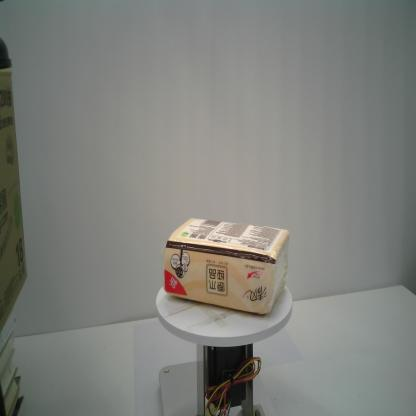Tissue: (163, 217, 291, 315)
